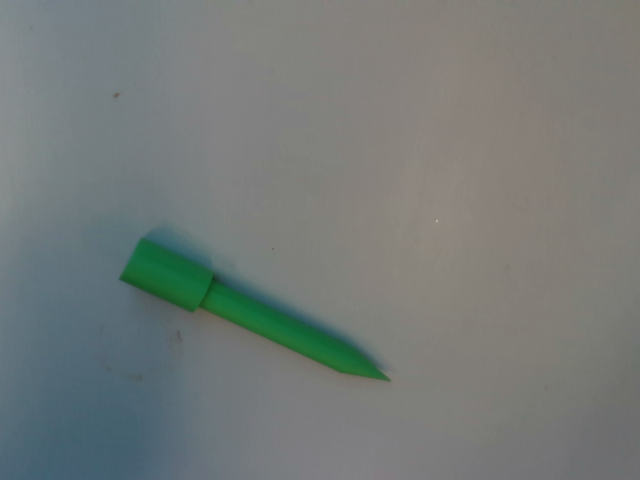Probe: (111, 232, 400, 390)
